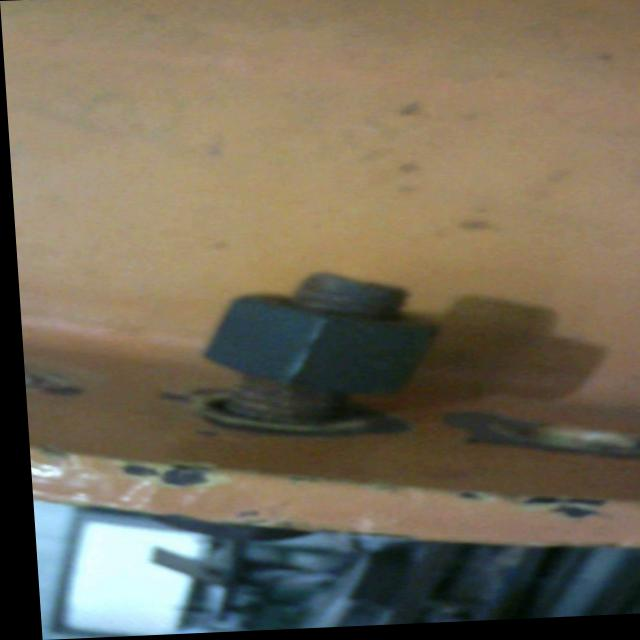Loose bolt: (196, 273, 438, 432)
Missing bolt: (514, 430, 637, 463)
Rusty bolt: (213, 287, 421, 430)
